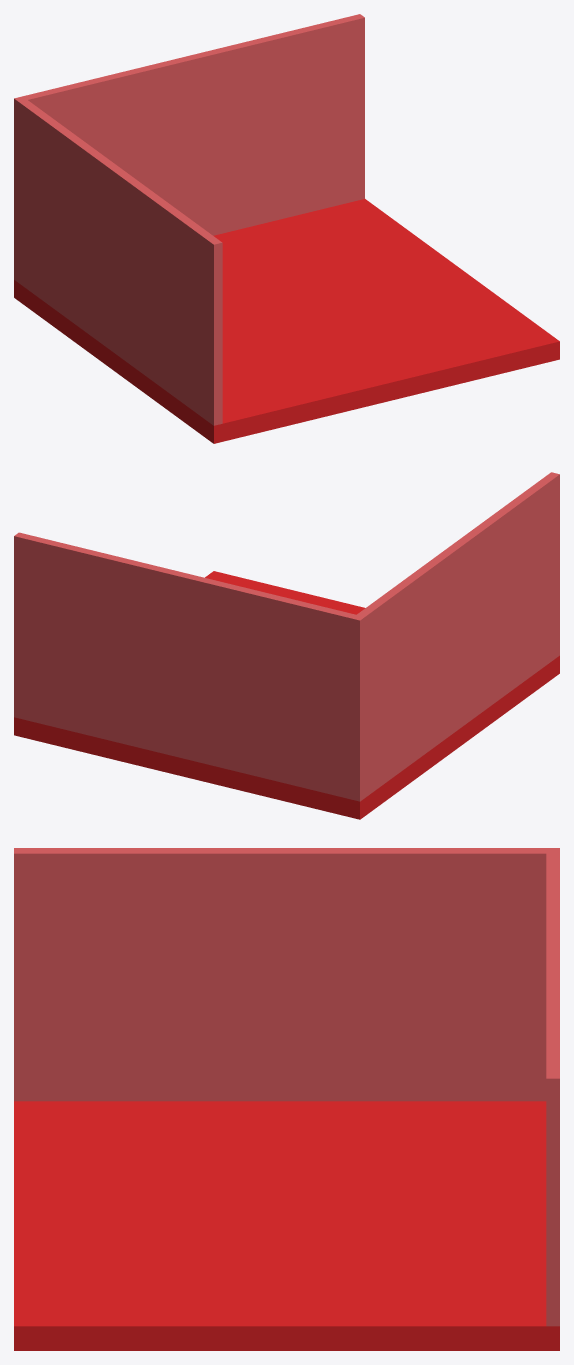
File: house.fbx
The picture shows the model from 3 angles, top to bottom: view 1: azimuth 30°, elevation 25°; view 2: azimuth 150°, elevation 25°; view 3: azimuth 270°, elevation 25°; orthographic projection. The views are drawn at different scales.
Visible parts, largest first — view 1: house; view 2: house; view 3: house.
Boxes of the visible parts, x1,y1,x2,y2 form: house: (14, 14, 559, 443); house: (14, 472, 559, 819); house: (14, 848, 559, 1350).
Size of the model in its own units: 1000 by 550 by 1000.
